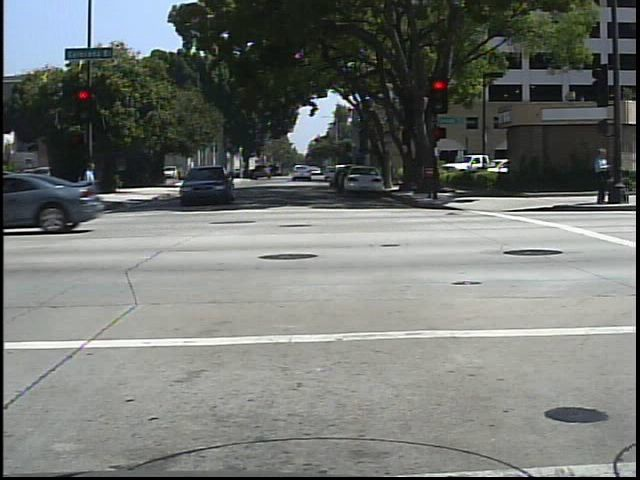person: (75, 158, 106, 222), (589, 143, 615, 208)
